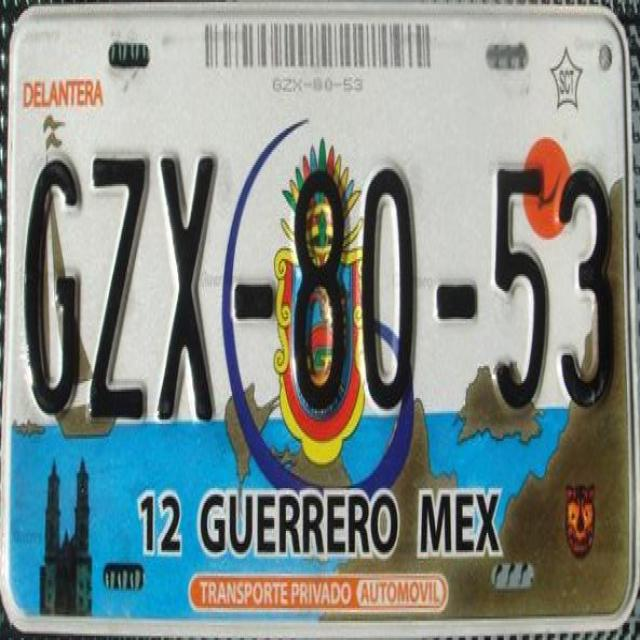placa: (7, 123, 629, 463)
